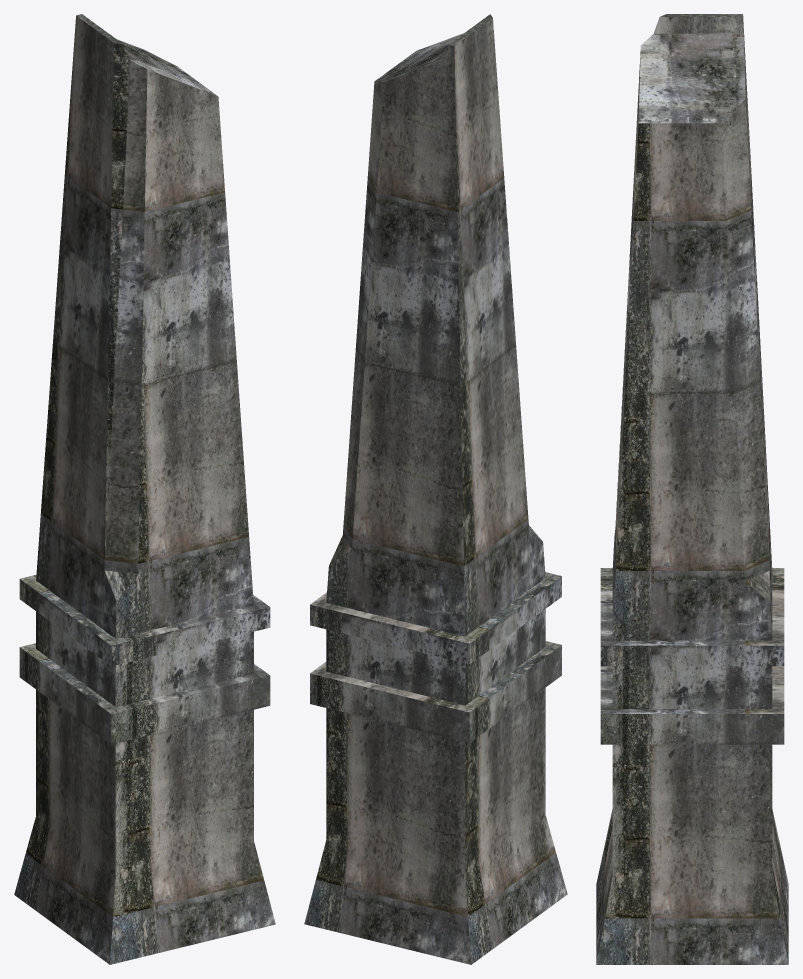
Rendered from obelisk.obj.
The picture shows the model from 3 angles, left to right: view 1: azimuth 30°, elevation 25°; view 2: azimuth 150°, elevation 25°; view 3: azimuth 270°, elevation 25°; orthographic projection.
Visible parts, largest first — view 1: STL file; view 2: STL file; view 3: STL file.
Boxes of the visible parts, box(x1,y1,x2,y2) form: STL file: box(14, 14, 275, 964); STL file: box(304, 14, 567, 964); STL file: box(596, 14, 788, 964).
Size of the model in its own units: 2.03 by 10.37 by 2.03.
Materials: 1 (1 with a texture image).
